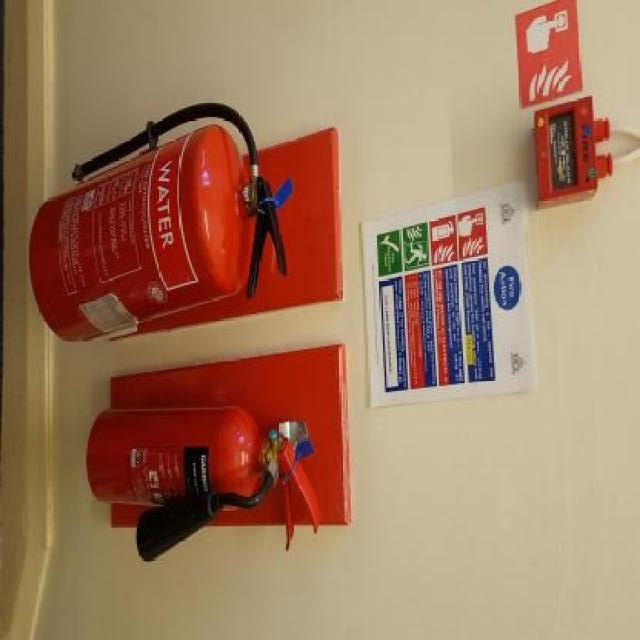fire extinguisher: (28, 100, 287, 342), (87, 406, 324, 565)
